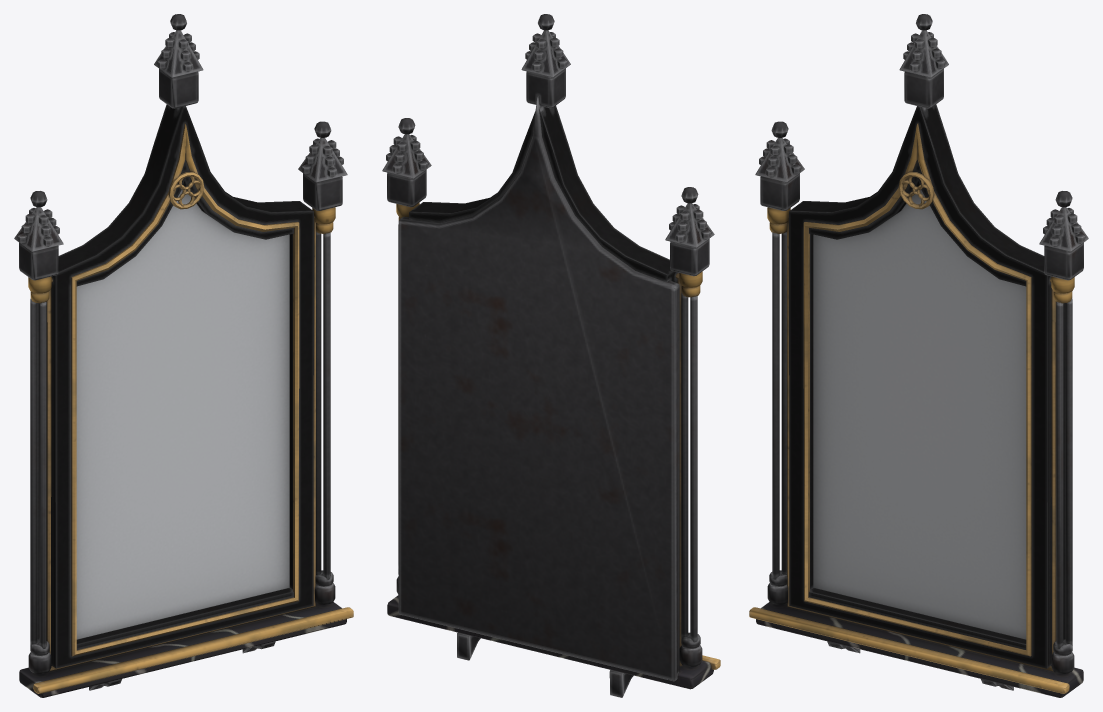
Rendered from GothicMirror.fbx.
3 renders of one model, left to right at view 1: azimuth 30°, elevation 25°; view 2: azimuth 150°, elevation 25°; view 3: azimuth 330°, elevation 25°, orthographic.
Parts seen in each view (by area): view 1: GothicMirror_Mirror, GothicMirror_Main; view 2: GothicMirror_Main; view 3: GothicMirror_Mirror, GothicMirror_Main.
Boxes of the visible parts, bbox=[...] form: GothicMirror_Mirror: bbox=[76, 189, 289, 639]; GothicMirror_Main: bbox=[14, 14, 353, 697]; GothicMirror_Main: bbox=[382, 14, 720, 697]; GothicMirror_Mirror: bbox=[813, 189, 1026, 639]; GothicMirror_Main: bbox=[749, 14, 1088, 697].
Bounding box in the file's own units: 338 × 659 × 53.33.
